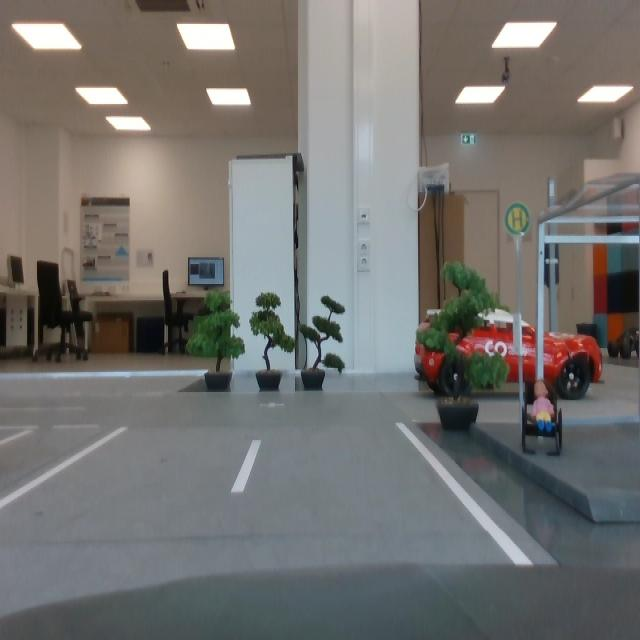car: (415, 306, 605, 402), (609, 327, 640, 360)
person: (530, 380, 556, 426)
potted plant: (415, 260, 508, 431), (186, 291, 245, 391), (249, 291, 296, 391), (299, 294, 346, 389)
traffic light: (544, 243, 562, 288)
